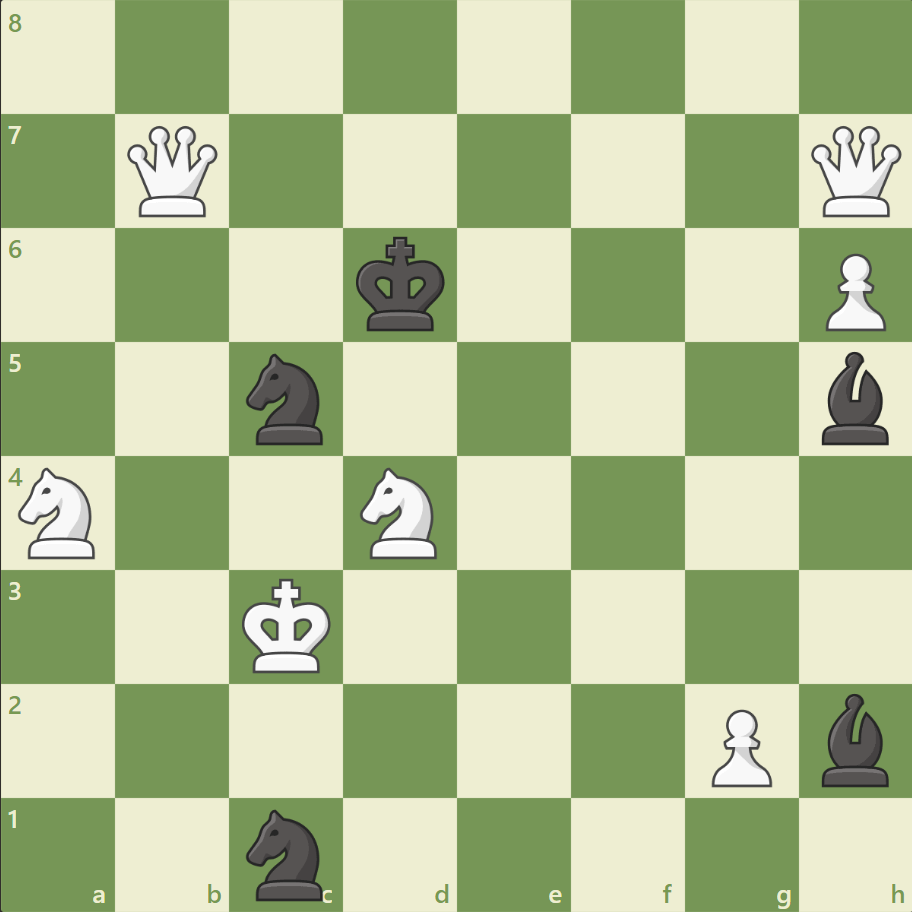K: (238, 571, 338, 679)
N: (351, 461, 449, 564), (11, 461, 108, 564)
P: (701, 700, 776, 791), (815, 246, 889, 337)
Q: (124, 122, 223, 222), (805, 122, 904, 222)
b: (812, 687, 896, 790), (812, 347, 896, 449)
k: (351, 231, 451, 339)
n: (238, 348, 335, 450), (238, 802, 335, 904)
